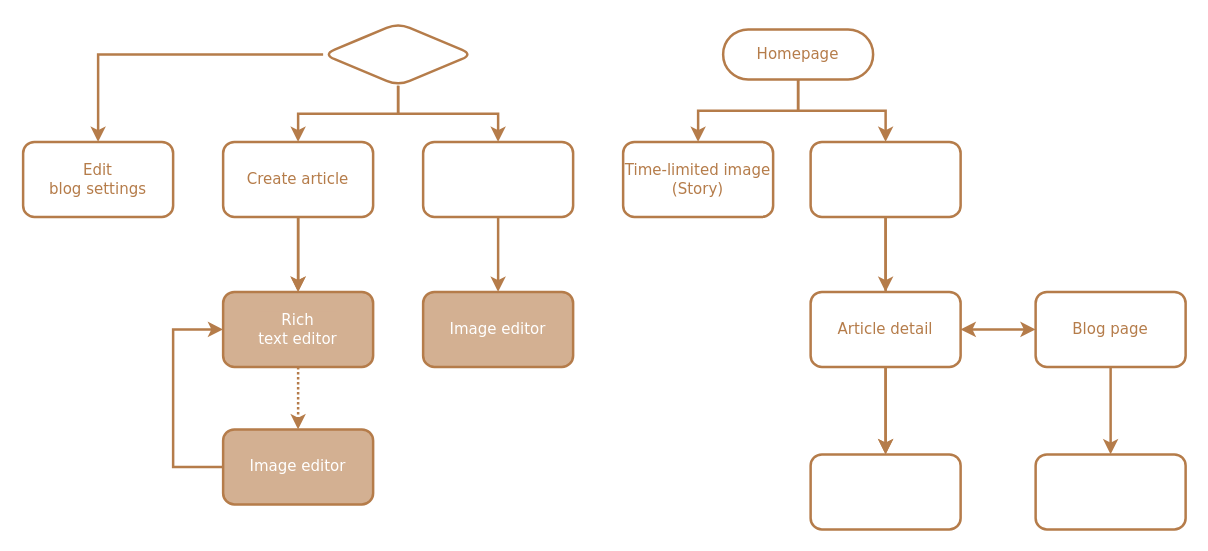
This 1208x551 diagram has some shape labels left out. Each missing label, with the centre of its shape:
"Create time-limited image (Story)" belongs at pixel 497 179.
"Like, Share, Comment" belongs at pixel 885 491.
"Login" belongs at pixel 397 53.
"Recommand articles" belongs at pixel 885 179.
"Visitors" belongs at pixel 1110 491.
